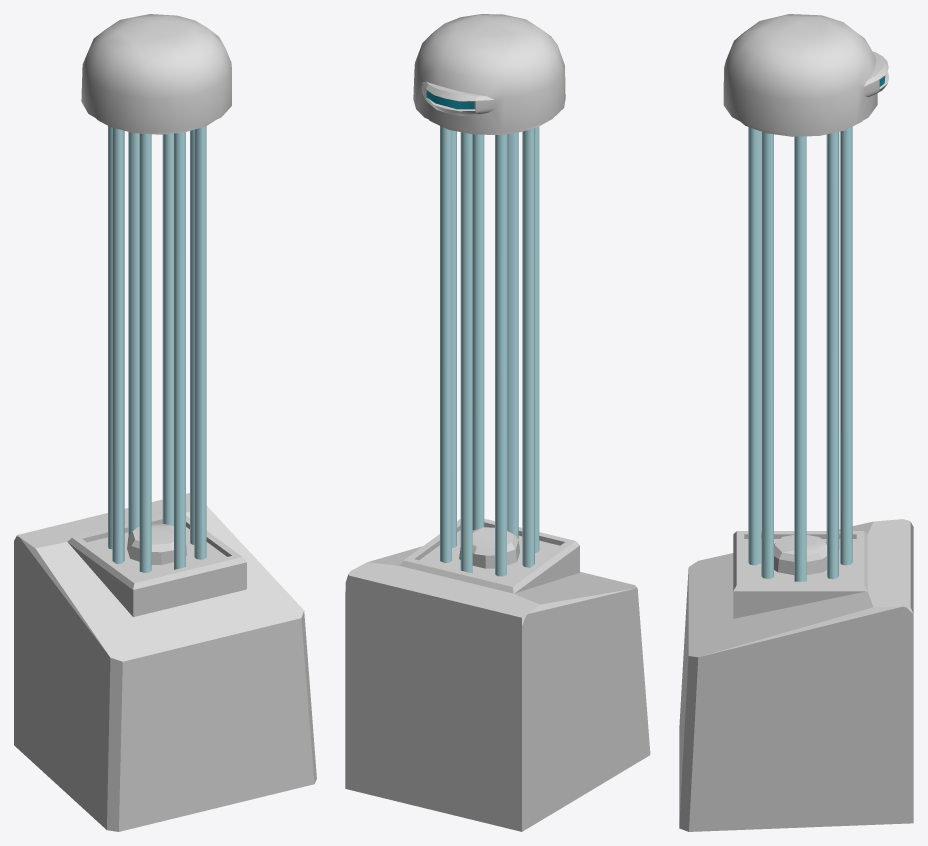
The model's file is Disinfecting Bot.fbx.
3 views of the same model, side by side, from view 1: azimuth 30°, elevation 25°; view 2: azimuth 150°, elevation 25°; view 3: azimuth 270°, elevation 25° (orthographic). The views are drawn at different scales.
Parts seen in each view (by area): view 1: Cube, Cylinder, Cylinder.001; view 2: Cube, Cylinder, Cylinder.001; view 3: Cube, Cylinder, Cylinder.001.
Part boxes in pixels (left/top/right/bottom): Cube: left=14, top=493, right=316, bottom=831; Cylinder: left=108, top=126, right=206, bottom=572; Cylinder.001: left=81, top=14, right=231, bottom=134; Cube: left=345, top=518, right=650, bottom=831; Cylinder: left=440, top=126, right=539, bottom=576; Cylinder.001: left=413, top=14, right=565, bottom=134; Cube: left=679, top=519, right=913, bottom=831; Cylinder: left=748, top=126, right=852, bottom=581; Cylinder.001: left=723, top=14, right=889, bottom=136.
Size of the model in its own units: 96.34 by 322 by 91.33.
